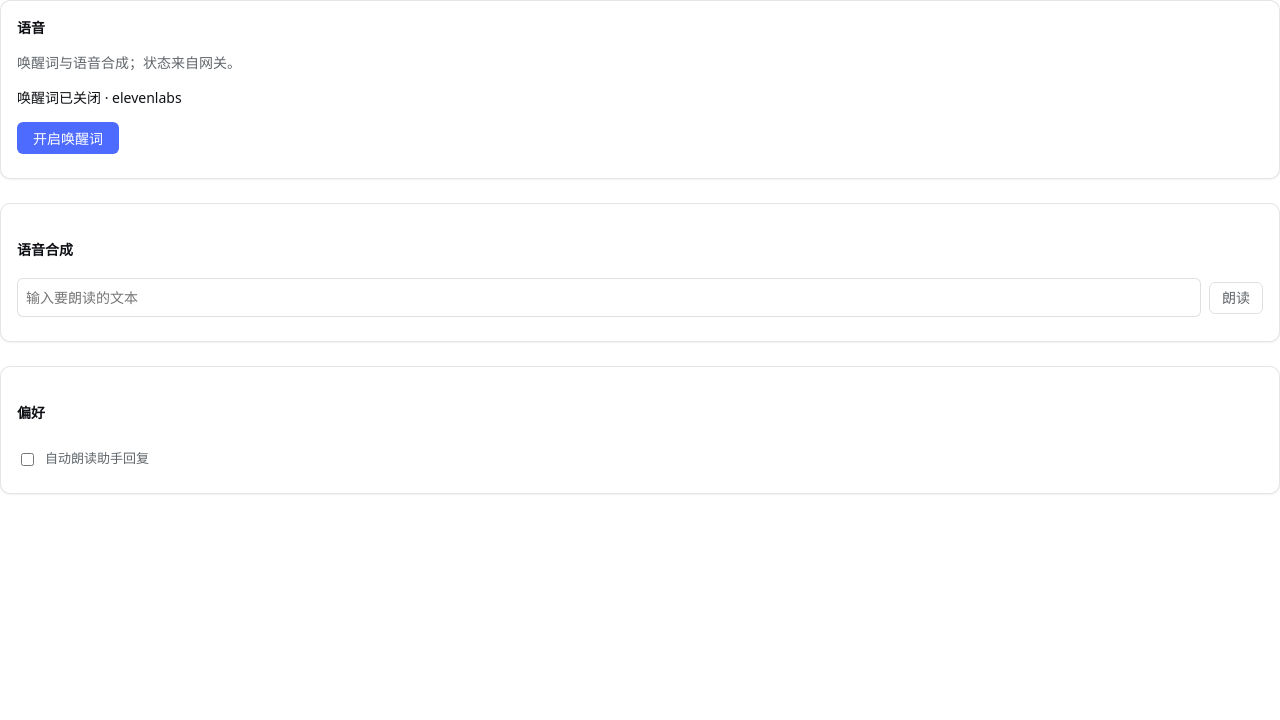
VoicePanel T18.7 语音（C04 订正：wake.status/start/stop） › reads wake.status and toggles the wake word via wake.start
Expected: the text named "语音状态" shows "唤醒词已关闭", 17,88 -> 101,107
Expected: the text named "语音状态" shows "elevenlabs", 101,88 -> 182,107
What coordinates should you click on to do the following:
click the button with aria-label "切换唤醒词"
I would click on:
 (68, 138)
Its box is 17,122 -> 119,154.
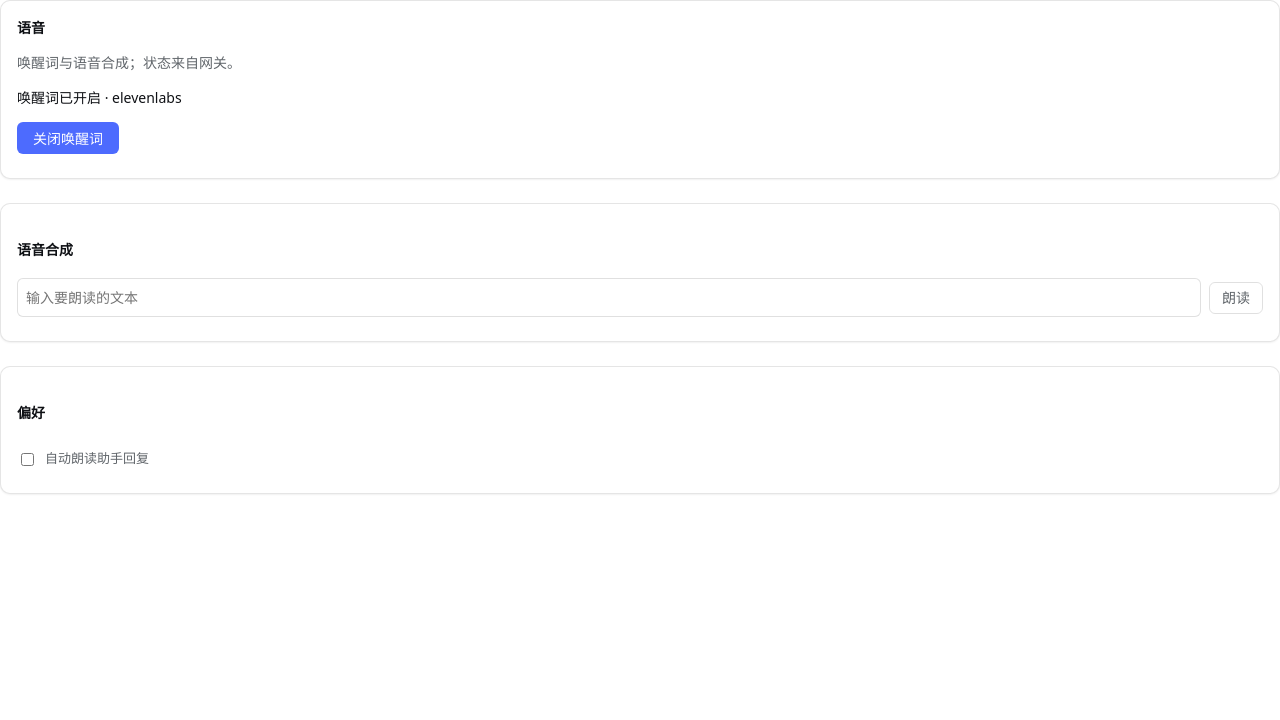
Expected: the text named "语音状态" shows "唤醒词已开启", 17,88 -> 101,107
